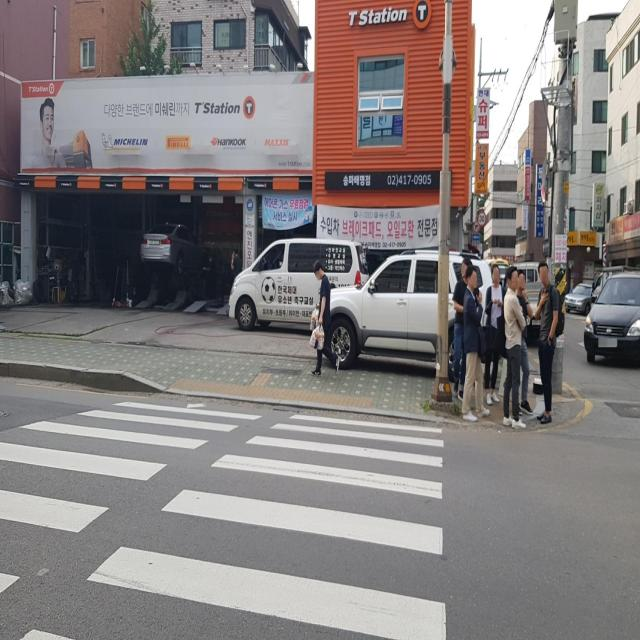횡단보도: (2, 395, 448, 638)
